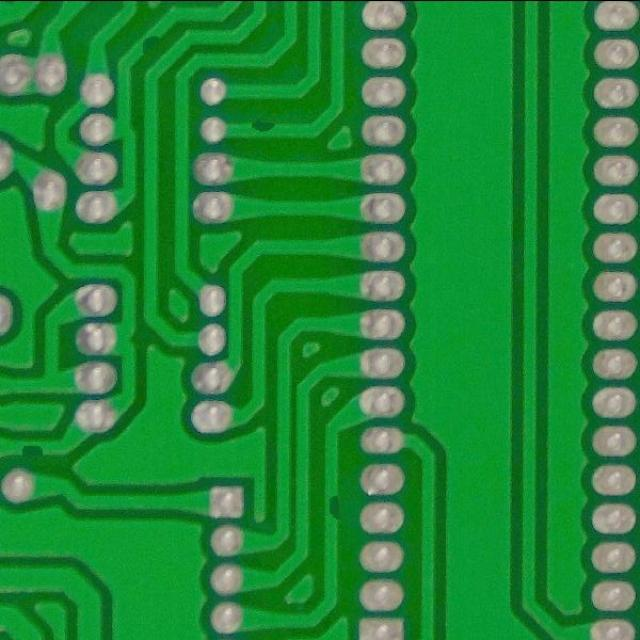MouseBite: (239, 115, 286, 141), (10, 434, 53, 462), (319, 486, 344, 528), (134, 26, 166, 58)
